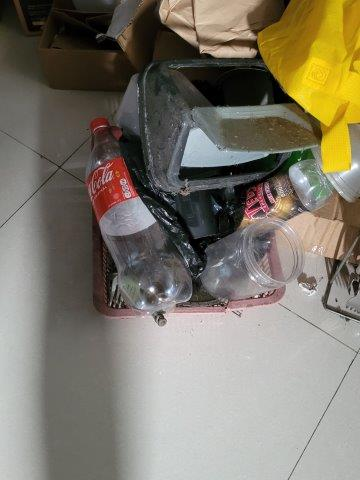botolplastik: (87, 117, 191, 309), (236, 157, 334, 224)
